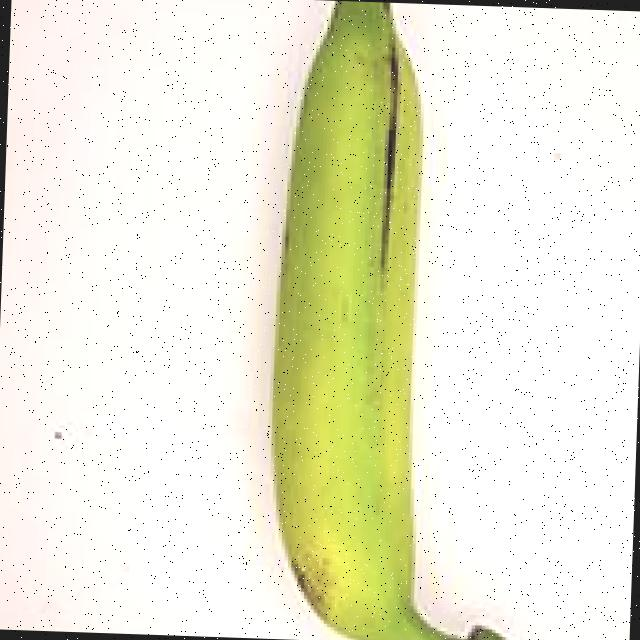Unripe: (188, 0, 554, 640)
